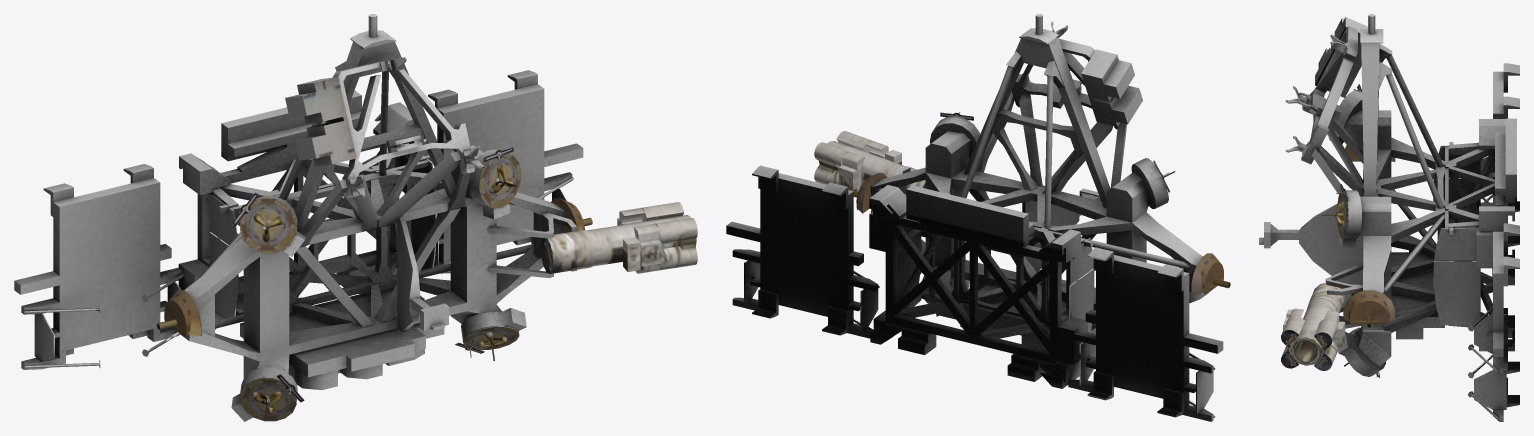
The model's file is mobile_base_system.dae.
3 renders of one model, left to right at view 1: azimuth 30°, elevation 25°; view 2: azimuth 150°, elevation 25°; view 3: azimuth 270°, elevation 25°, orthographic. The views are drawn at different scales.
Parts seen in each view (by area): view 1: 15 (MBS) Mobile Base System; view 2: 15 (MBS) Mobile Base System; view 3: 15 (MBS) Mobile Base System.
Boxes of the visible parts, x1=… form: 15 (MBS) Mobile Base System: x1=14, y1=14, x2=697, y2=421; 15 (MBS) Mobile Base System: x1=726, y1=14, x2=1230, y2=421; 15 (MBS) Mobile Base System: x1=1259, y1=14, x2=1519, y2=421.
Size of the model in its own units: 6.76 by 3.17 by 4.25.
4 materials, 4 textured.
